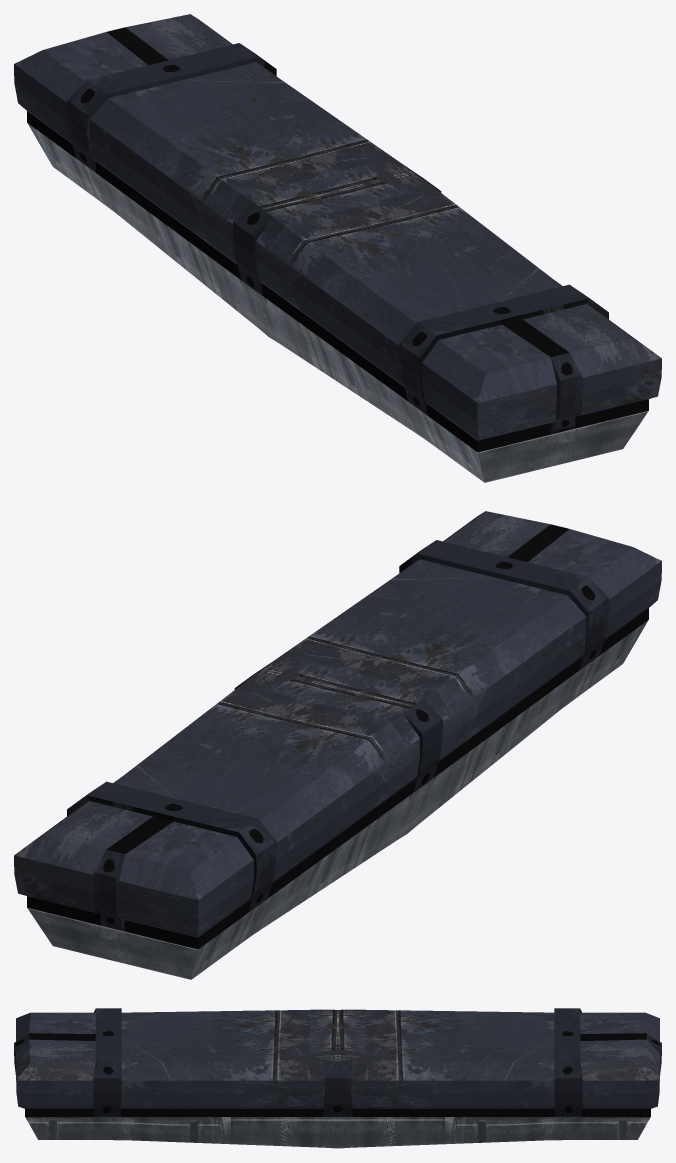
File: Luz.fbx
The picture shows the model from 3 angles, top to bottom: view 1: azimuth 30°, elevation 25°; view 2: azimuth 150°, elevation 25°; view 3: azimuth 270°, elevation 25°; orthographic projection. The views are drawn at different scales.
Parts seen in each view (by area): view 1: Luz; view 2: Luz; view 3: Luz.
Part boxes in pixels (x1,y1,x2,y2): Luz: (14,14,661,482); Luz: (14,511,661,979); Luz: (14,1008,661,1148).
Bounding box in the file's own units: 1.45 × 1.08 × 6.17.
Materials: 1 (1 with a texture image).
